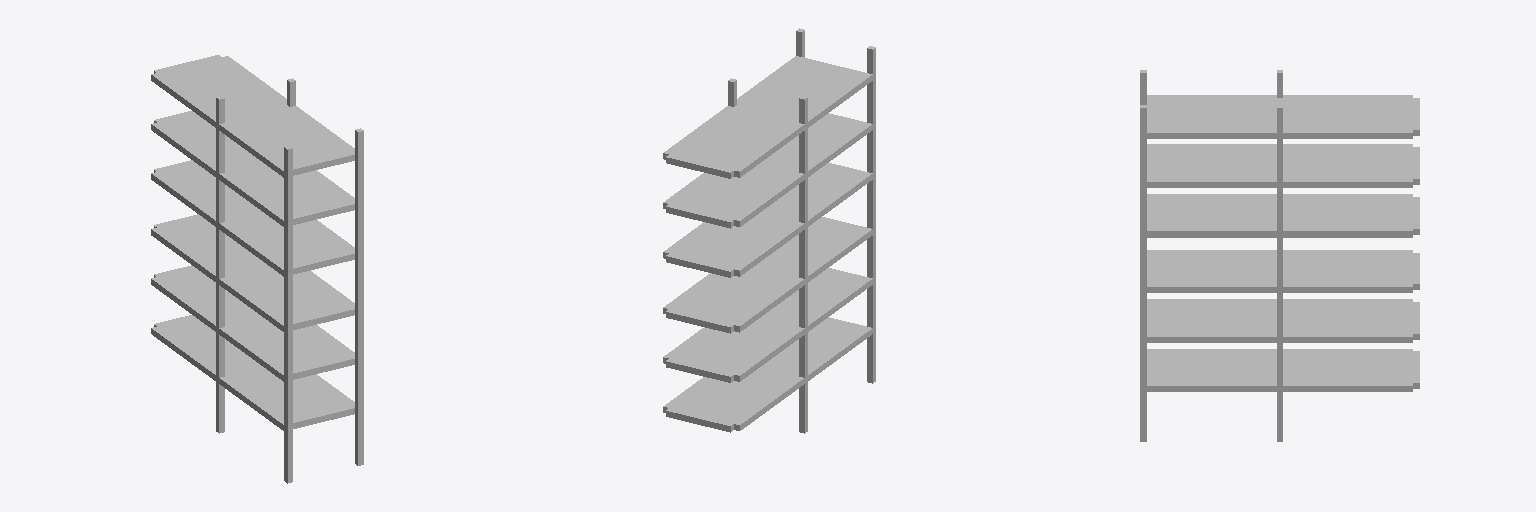
Rendered from MetalRackStartContinue.obj.
3 views of the same model, side by side, from view 1: azimuth 30°, elevation 25°; view 2: azimuth 150°, elevation 25°; view 3: azimuth 270°, elevation 25° (orthographic).
Parts seen in each view (by area): view 1: metalRack; view 2: metalRack; view 3: metalRack.
Boxes of the visible parts, x1,y1,x2,y2 form: metalRack: [151, 55, 363, 483]; metalRack: [663, 28, 875, 433]; metalRack: [1140, 70, 1419, 441].
Size of the model in its own units: 3.25 by 13.5 by 10.25.